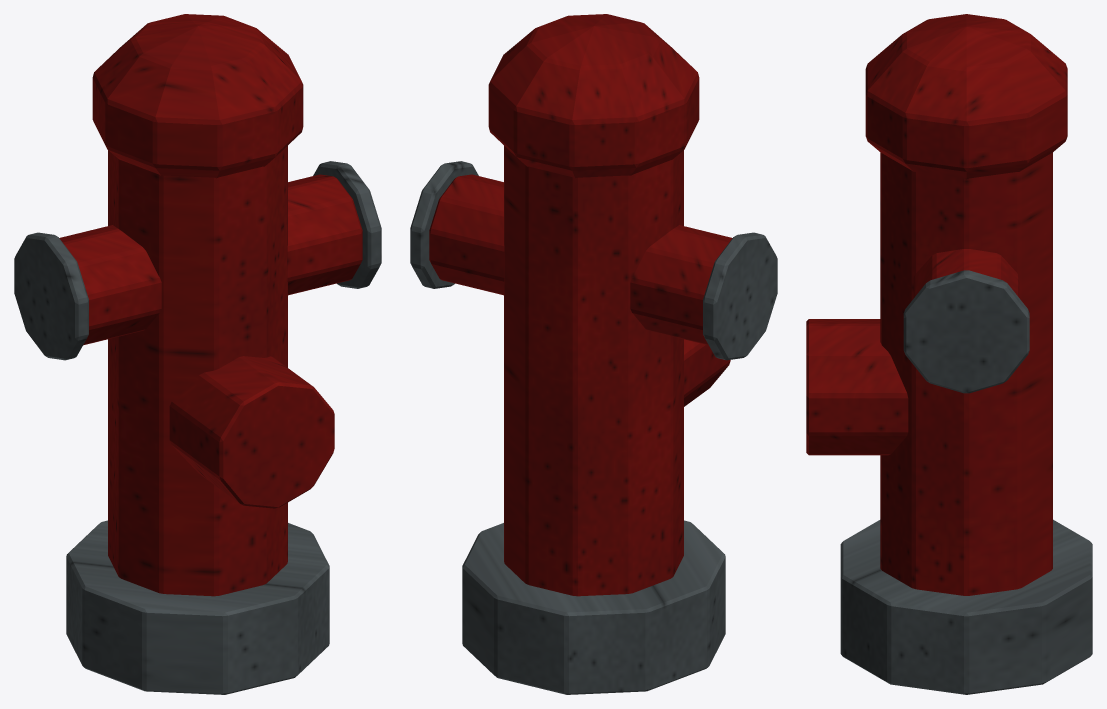
The model's file is PROP-A10C19B6AFC9_lod1.glb.
The picture shows the model from 3 angles, left to right: view 1: azimuth 30°, elevation 25°; view 2: azimuth 150°, elevation 25°; view 3: azimuth 270°, elevation 25°; orthographic projection.
Visible parts, largest first — view 1: hydrant_barrel.002, hydrant_base.002, hydrant_cap.002, front_nozzle.002, hose_nozzle.002, hose_cap.002; view 2: hydrant_barrel.002, hydrant_base.002, hydrant_cap.002, hose_nozzle.002, hose_cap.002, front_nozzle.002; view 3: hydrant_barrel.002, hydrant_base.002, hydrant_cap.002, front_nozzle.002, hose_cap.002, hose_nozzle.002.
Part boxes in pixels (x1,y1,x2,y2): hydrant_barrel.002: (108,146,287,596); hydrant_base.002: (66,520,329,694); hydrant_cap.002: (92,14,303,178); front_nozzle.002: (169,356,334,508); hose_nozzle.002: (59,174,362,345); hose_cap.002: (14,161,381,360); hydrant_barrel.002: (504,146,683,596); hydrant_base.002: (462,520,725,694); hydrant_cap.002: (488,14,699,178); hose_nozzle.002: (429,174,732,345); hose_cap.002: (410,161,777,360); front_nozzle.002: (684,339,730,406); hydrant_barrel.002: (880,152,1052,595); hydrant_base.002: (840,519,1092,694); hydrant_cap.002: (865,14,1067,179); front_nozzle.002: (806,319,908,455); hose_cap.002: (903,270,1029,393); hose_nozzle.002: (913,249,1019,297).
Bounding box in the file's own units: 0.506 × 0.97 × 0.4107.
2 materials, 2 textured.
